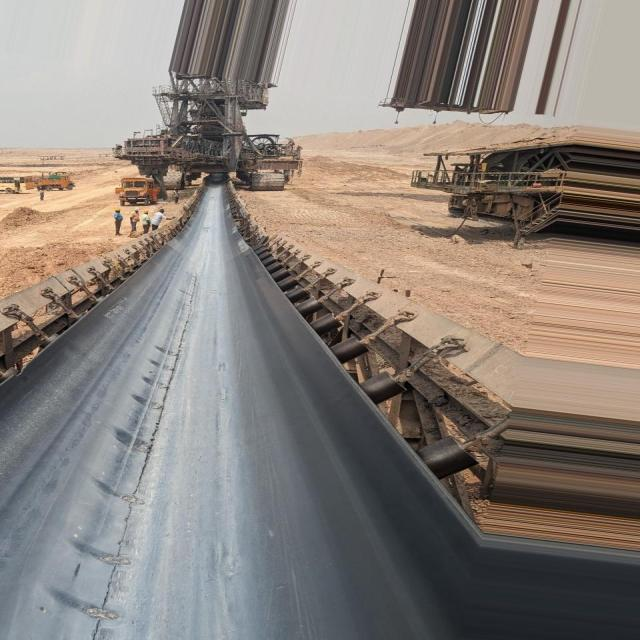Human: (151, 209, 176, 229), (113, 208, 126, 236), (130, 208, 140, 231), (142, 212, 150, 235)
Roller: (240, 229, 486, 483)
patch work: (75, 275, 204, 639)
